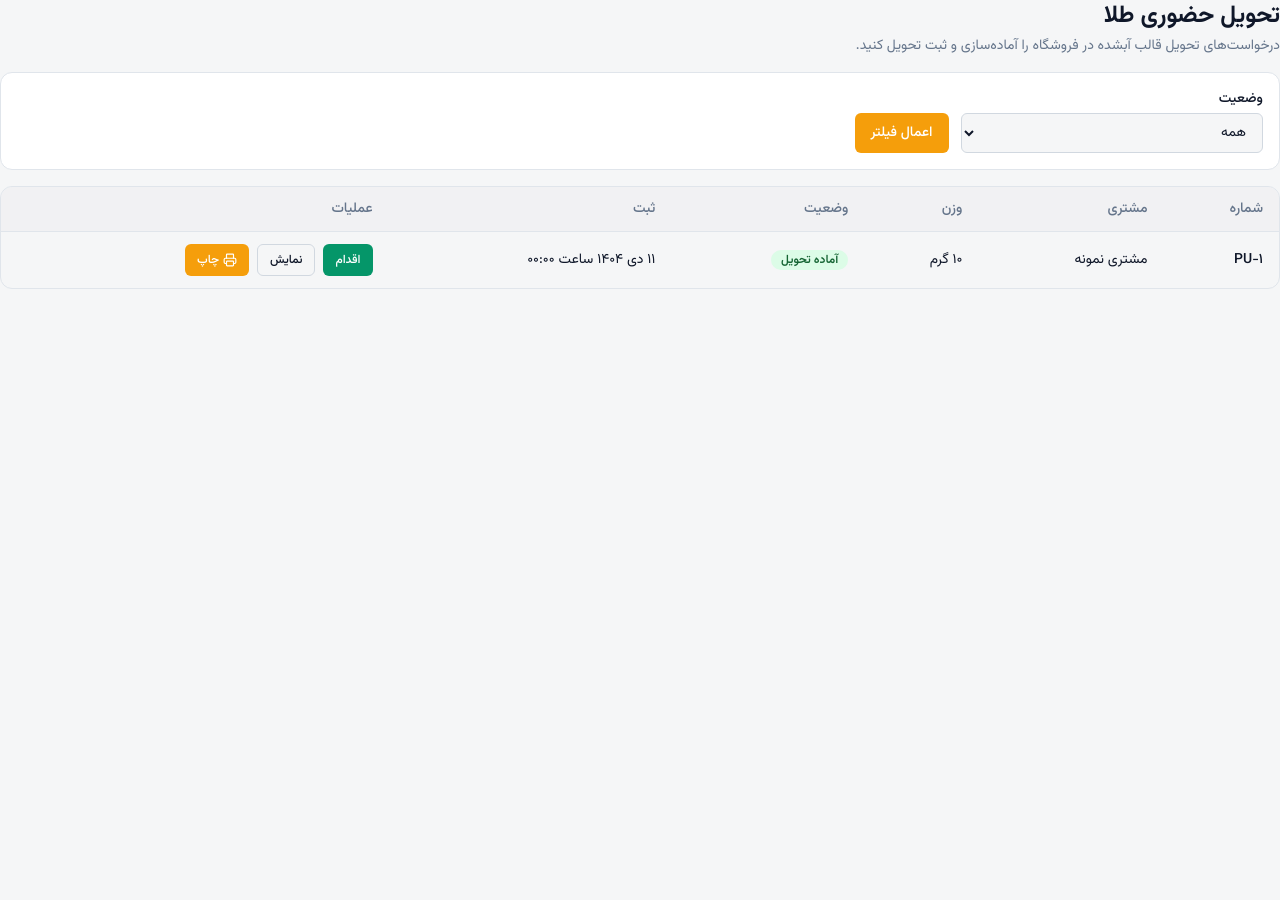
Test: pickups list actions › opens the dialog without printing when view is clicked
This screenshot has width=1280, height=900.
Click the button with aria-label "مشاهده درخواست PU-1" at (286, 260), box [257,244,315,276]
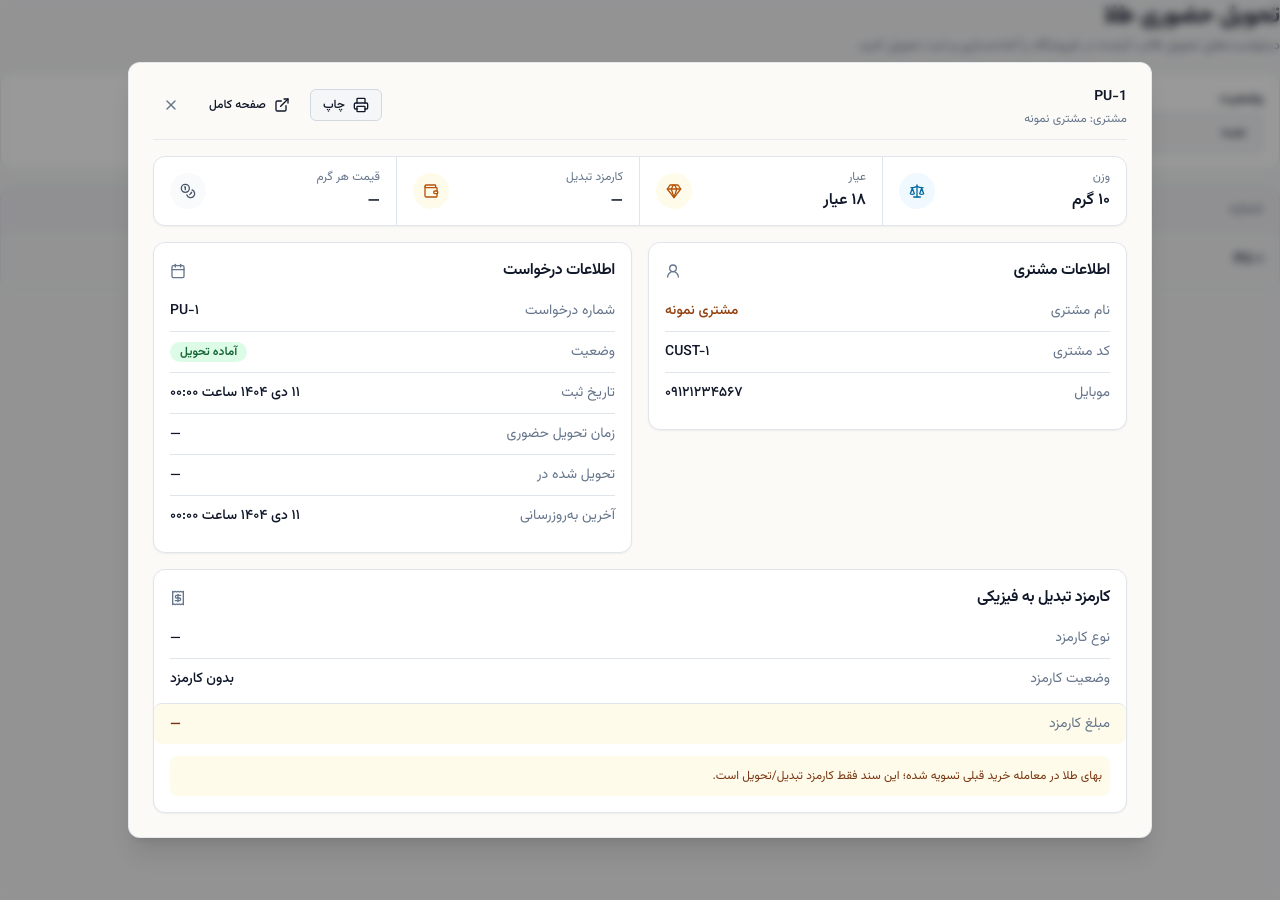
Check: the dialog is shown
